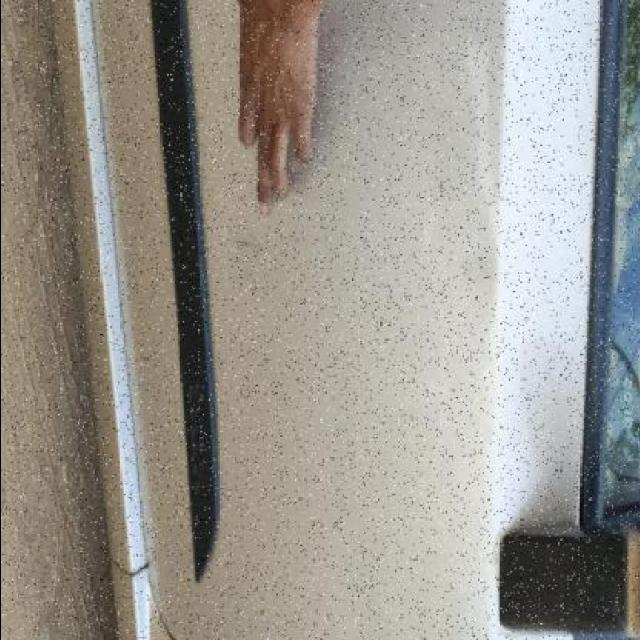doorouter-dent: (136, 0, 607, 638)
